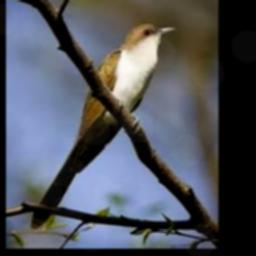Cuckoo: (30, 24, 176, 228)
